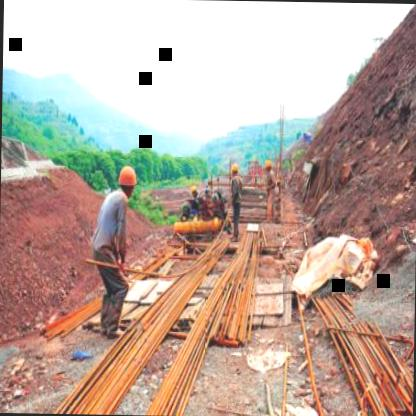helmet: (113, 162, 138, 202), (226, 159, 240, 181), (259, 156, 273, 178), (186, 181, 198, 201)
